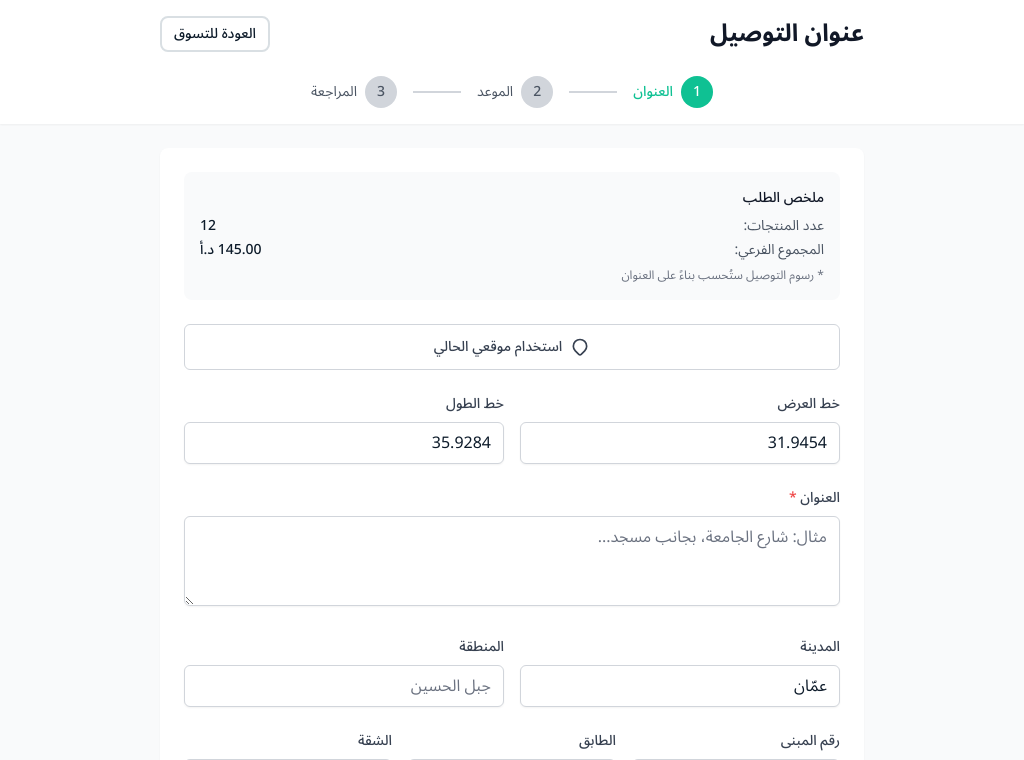
Test: CheckoutAddressPage › Geolocation › should show loading state during geolocation
The image size is (1024, 760).
Click the button "استخدام موقعي الحالي": (512, 347) 184,324 -> 840,370
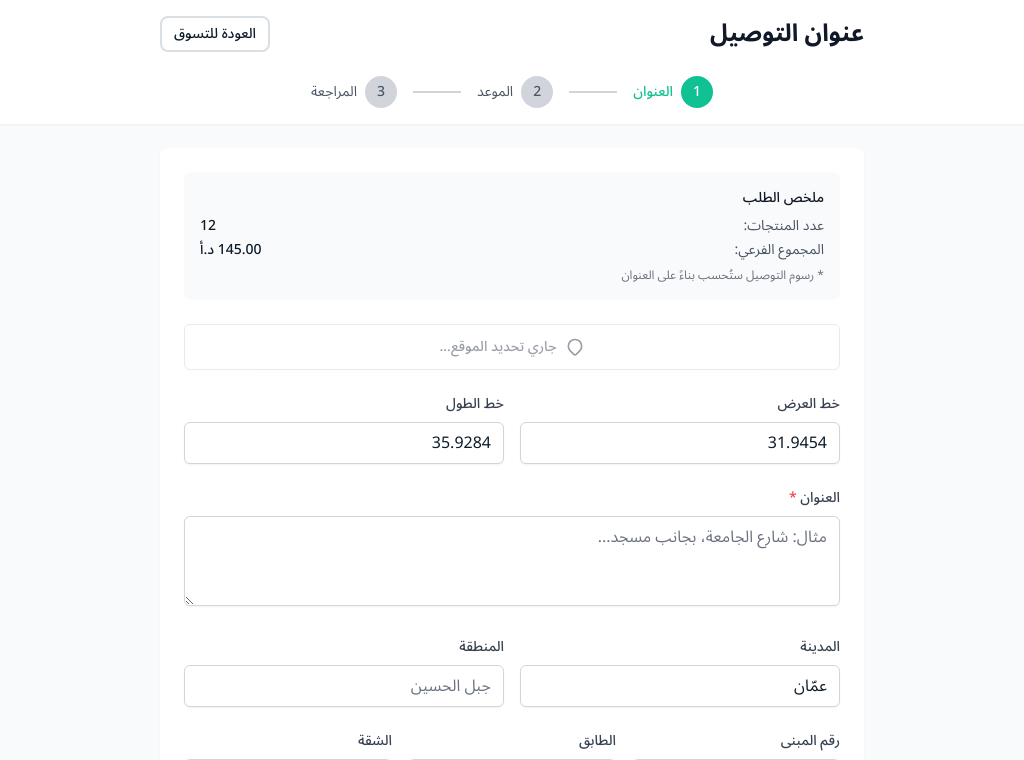
Expected: the button "جاري تحديد الموقع..." is shown, 184,324 -> 840,370
